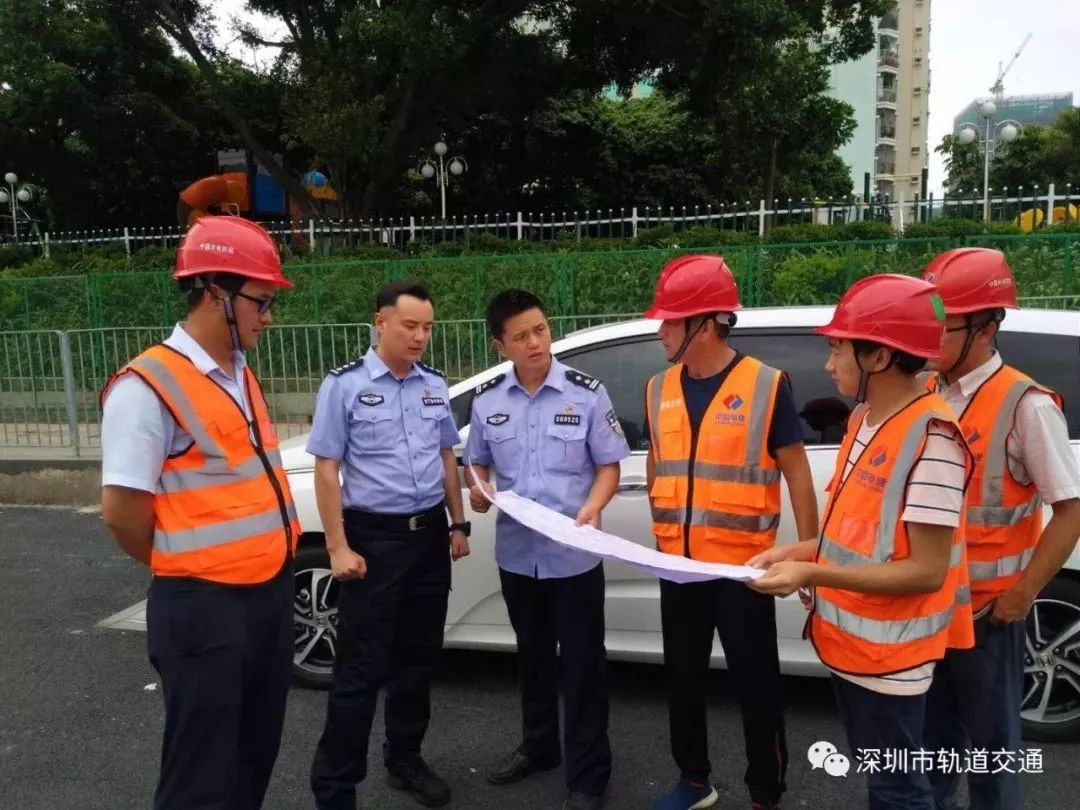head: (483, 288, 554, 373), (369, 278, 435, 365)
ordinary_clothes: (475, 365, 604, 578), (327, 346, 448, 516)
person: (745, 273, 976, 810), (96, 215, 304, 810), (637, 252, 820, 810), (918, 247, 1079, 810), (303, 277, 471, 810), (461, 289, 633, 806)
reflective_vest: (96, 340, 302, 586), (803, 392, 976, 680), (643, 352, 783, 566), (957, 364, 1065, 619)
safety_helmet: (811, 272, 947, 404), (171, 213, 295, 353), (919, 245, 1022, 376), (638, 252, 744, 367)
